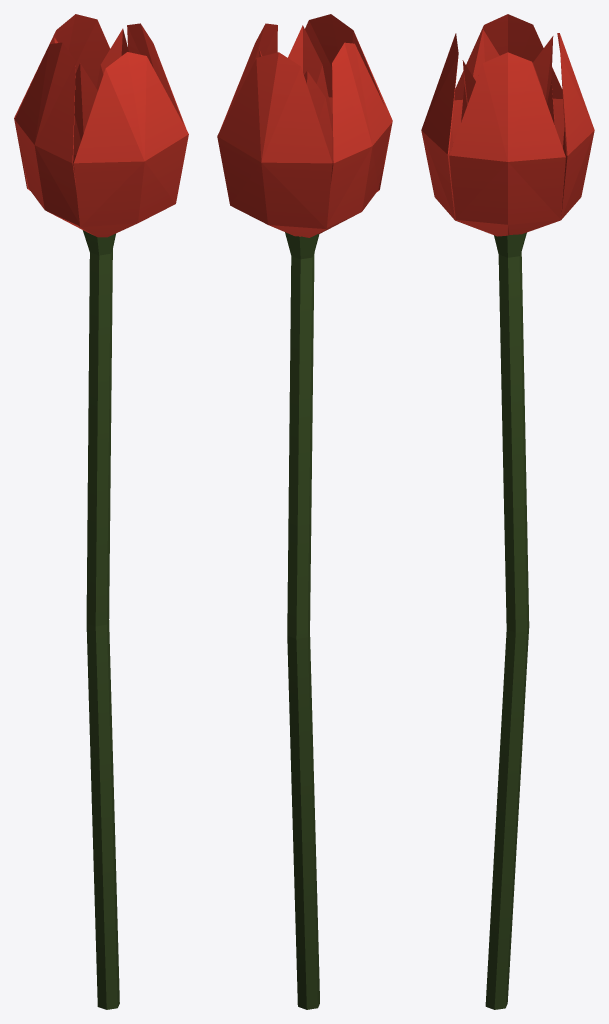
Rendered from Env_Tulip_High_Detail_01.obj.
3 views of the same model, side by side, from view 1: azimuth 30°, elevation 25°; view 2: azimuth 150°, elevation 25°; view 3: azimuth 270°, elevation 25° (orthographic).
Parts seen in each view (by area): view 1: Env_Tulip_High_Detail_01; view 2: Env_Tulip_High_Detail_01; view 3: Env_Tulip_High_Detail_01.
Part boxes in pixels (x1,y1,x2,y2): Env_Tulip_High_Detail_01: [14, 14, 188, 1009]; Env_Tulip_High_Detail_01: [217, 14, 392, 1009]; Env_Tulip_High_Detail_01: [421, 14, 594, 1009].
Size of the model in its own units: 0.0725 by 0.5009 by 0.0811.
1 material, 1 textured.
